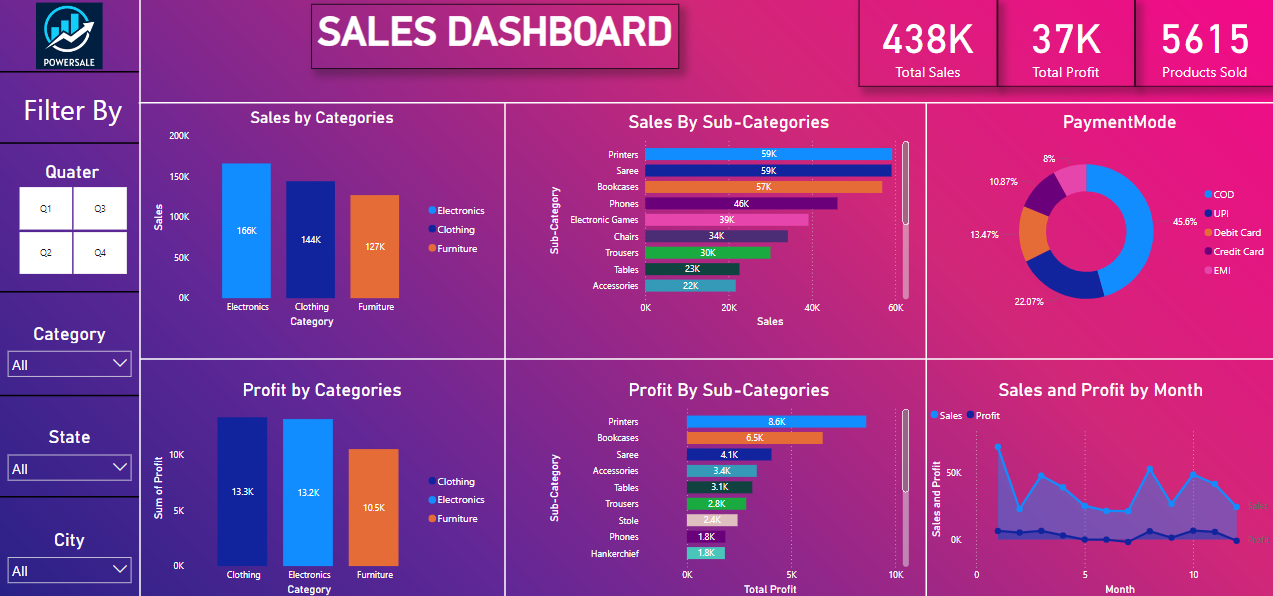

The page's visual inventory and layout, read from the dashboard file:
{"tool":"powerbi","page":{"name":"Page 1","canvas":[1700,800],"ordinal":0},"visuals":[{"type":"slicer","title":"Category","fields":{"Values":["Details.Category"]},"box":[0,432.1,185.3,95.5],"z":0},{"type":"slicer","title":"City","fields":{"Values":["Orders.State"]},"box":[0,705.9,185.3,94.1],"z":1},{"type":"slicer","title":"State","fields":{"Values":["Orders.State"]},"box":[0,570.3,185.3,94.1],"z":2},{"type":"card","fields":{"Values":["Sum(Details.Amount)"]},"box":[1145,0,185,116.7],"z":3},{"type":"card","fields":{"Values":["Sum(Details.Profit)"]},"box":[1330,0,183.3,116.7],"z":4},{"type":"card","fields":{"Values":["Sum(Details.Quantity)"]},"box":[1513.3,0,186.7,116.7],"z":5},{"type":"slicer","title":"Quater","fields":{"Values":["Orders.Quarter"]},"box":[0,216.8,192.4,156.8],"z":6},{"type":"textbox","box":[12.8,116.9,166.8,64.1],"z":8},{"type":"shape","box":[0,149.7,185.3,84.1],"z":9},{"type":"shape","box":[0,621.6,185.3,84.1],"z":10},{"type":"shape","box":[0,486.2,185.3,84.1],"z":11},{"type":"shape","box":[0,348,185.3,84.1],"z":12},{"type":"columnChart","title":"Sales by Categories","fields":{"Category":["Details.Category"],"Y":["Sum(Details.Amount)"],"Series":["Details.Category"]},"box":[198.1,145.4,461.8,297.9],"z":13},{"type":"shape","box":[0,55.6,185.3,84.1],"z":14},{"type":"columnChart","title":"Profit by Categories","fields":{"Category":["Details.Category"],"Y":["Sum(Details.Profit)"],"Series":["Details.Category"]},"box":[198.8,507.3,461.9,293.4],"z":15},{"type":"barChart","title":"Sales By Sub-Categories","fields":{"Y":["Sum(Details.Amount)"],"Category":["Details.Sub-Category"],"Series":["Details.Sub-Category"]},"box":[726.9,149.6,490.3,293.4],"z":16},{"type":"barChart","title":"Profit By Sub-Categories","fields":{"Category":["Details.Sub-Category"],"Y":["Sum(Details.Profit)"],"Series":["Details.Sub-Category"]},"box":[726.9,507.3,490.3,293.4],"z":17},{"type":"donutChart","title":"PaymentMode","fields":{"Y":["CountNonNull(Details.PaymentMode)"],"Category":["Details.PaymentMode"]},"box":[1287.3,149.6,412.7,293.4],"z":18},{"type":"lineChart","fields":{"Category":["Orders.Month"],"Y":["Sum(Details.Amount)","Sum(Details.Profit)"]},"box":[1234.3,507.3,465.7,293.4],"z":19},{"type":"textbox","box":[415,6.7,490,86.7],"z":20},{"type":"image","box":[0,0,185,98.3],"z":21},{"type":"shape","box":[1141.7,138.3,186.7,661.7],"z":22},{"type":"shape","box":[580,138.3,186.7,661.7],"z":23},{"type":"shape","box":[186.7,330,1513.3,300],"z":24},{"type":"shape","box":[185,65,1515,146.7],"z":25},{"type":"shape","box":[93.3,0,186.7,800],"z":26}]}

Visuals, with their boxes in screenshot pixels (x1, y1, x2, y2), scaled from the page's 1700x800 canvas onto the 1273x596 screenshot:
"Category" slicer: x1=0 y1=322 x2=139 y2=393
"City" slicer: x1=0 y1=526 x2=139 y2=595
"State" slicer: x1=0 y1=425 x2=139 y2=495
card - Sum(Details.Amount): x1=857 y1=0 x2=996 y2=87
card - Sum(Details.Profit): x1=996 y1=0 x2=1133 y2=87
card - Sum(Details.Quantity): x1=1133 y1=0 x2=1272 y2=87
"Quater" slicer: x1=0 y1=162 x2=144 y2=278
textbox: x1=10 y1=87 x2=134 y2=135
shape: x1=0 y1=112 x2=139 y2=174
shape: x1=0 y1=463 x2=139 y2=526
shape: x1=0 y1=362 x2=139 y2=425
shape: x1=0 y1=259 x2=139 y2=322
"Sales by Categories" columnChart: x1=148 y1=108 x2=494 y2=330
shape: x1=0 y1=41 x2=139 y2=104
"Profit by Categories" columnChart: x1=149 y1=378 x2=495 y2=595
"Sales By Sub-Categories" barChart: x1=544 y1=111 x2=911 y2=330
"Profit By Sub-Categories" barChart: x1=544 y1=378 x2=911 y2=595
"PaymentMode" donutChart: x1=964 y1=111 x2=1272 y2=330
lineChart - Orders.Month x Sum(Details.Amount): x1=924 y1=378 x2=1272 y2=595
textbox: x1=311 y1=5 x2=678 y2=70
image: x1=0 y1=0 x2=139 y2=73
shape: x1=855 y1=103 x2=995 y2=595
shape: x1=434 y1=103 x2=574 y2=595
shape: x1=140 y1=246 x2=1272 y2=469
shape: x1=139 y1=48 x2=1272 y2=158
shape: x1=70 y1=0 x2=210 y2=595
